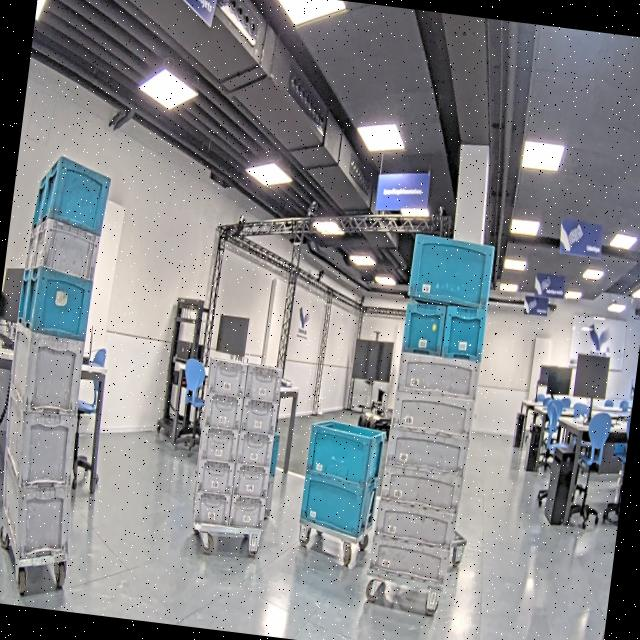Box3G: (384, 422, 472, 479), (374, 496, 459, 552), (396, 350, 482, 404), (379, 461, 464, 515), (390, 386, 476, 438), (368, 532, 452, 584)
Box4G: (0, 446, 79, 566), (0, 386, 82, 491), (5, 321, 90, 415)
Box8G: (32, 210, 104, 283), (206, 356, 248, 398), (200, 392, 243, 432), (238, 398, 280, 438), (196, 426, 238, 466), (232, 430, 274, 470), (244, 362, 284, 403), (194, 459, 234, 498), (227, 494, 267, 533), (230, 462, 270, 500), (190, 492, 230, 528)
BoxB4: (404, 230, 496, 308), (300, 415, 387, 491), (296, 469, 378, 542)
BoxB8: (39, 153, 117, 237), (23, 267, 96, 342), (440, 302, 488, 362), (400, 300, 448, 356)
